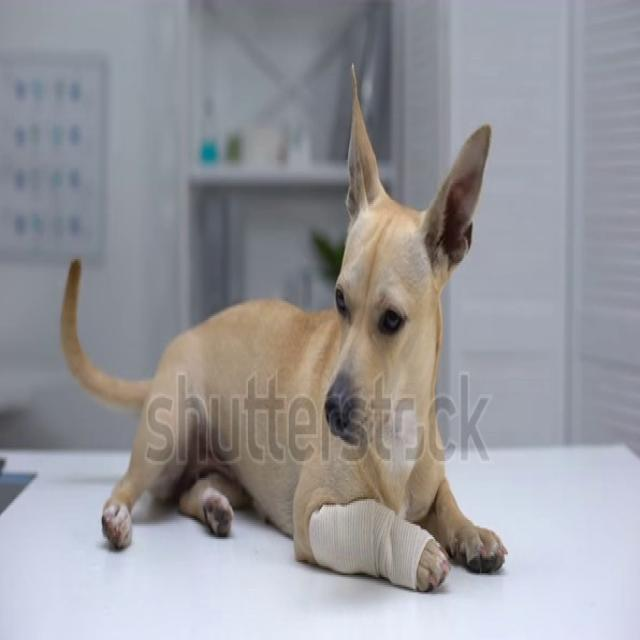injured-animals: (56, 59, 510, 598)
